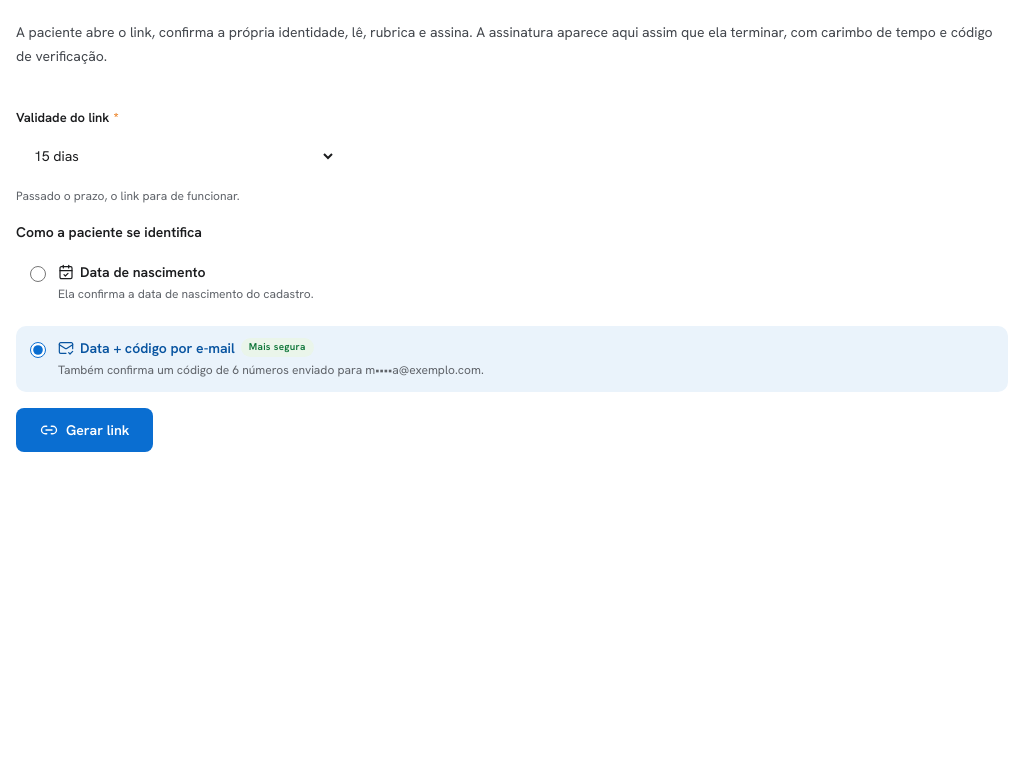
Test: PainelLink — como a paciente se identifica › com e-mail e envio configurado, a opção mais segura vem marcada e vai para o banco
Expected: the radio button labelled "Data + código por e-mail" is checked, [30, 342, 46, 358]
Expected: the text "Mais segura" is shown, [241, 338, 314, 357]
Step 1. Click the button "Gerar link" → (85,430), box [16, 408, 153, 452]
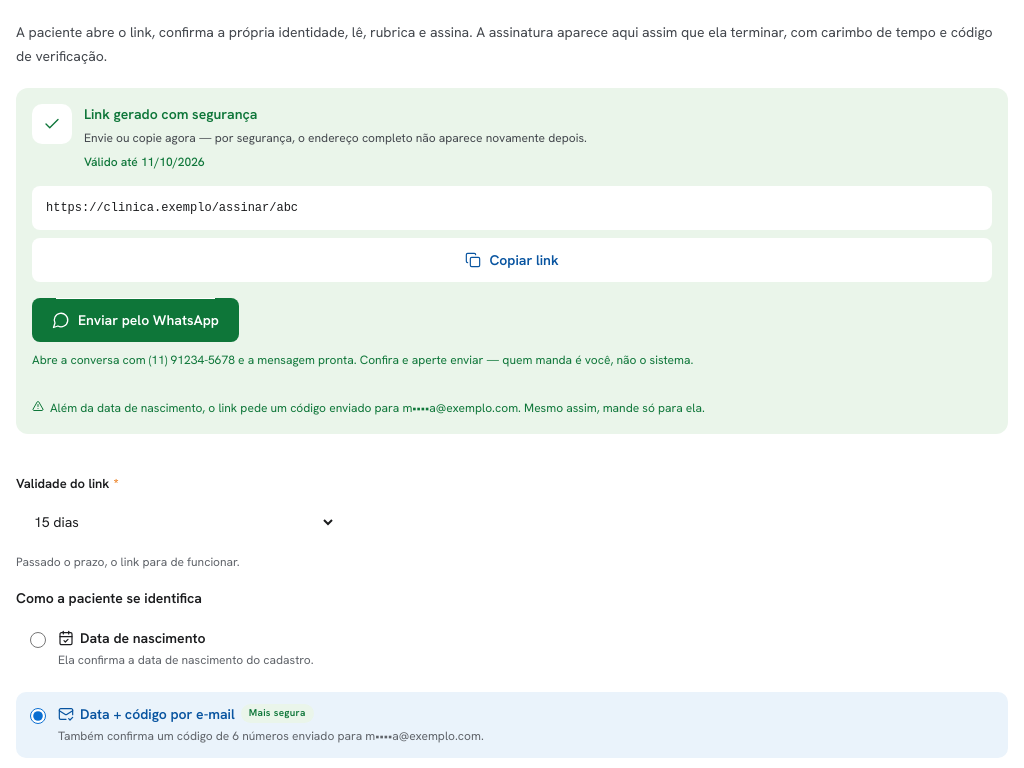
Expected: the text "pede um código enviado para m••••a@exemplo.com" is shown, [50, 400, 705, 416]
